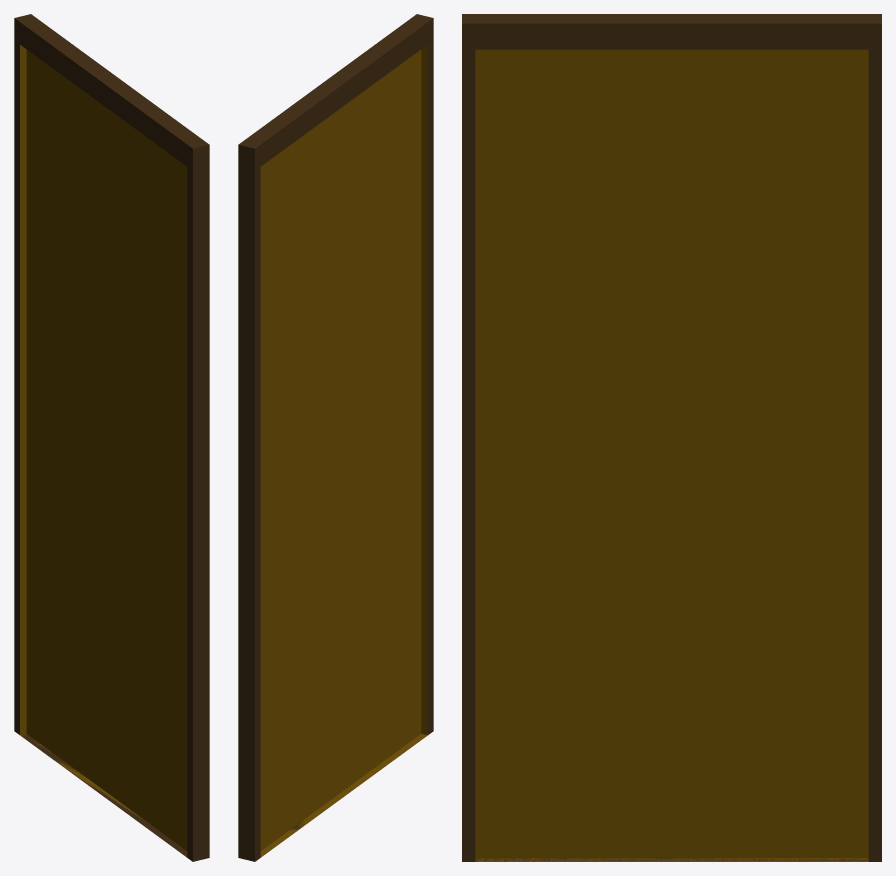
File: porte.glb
3 renders of one model, left to right at view 1: azimuth 30°, elevation 25°; view 2: azimuth 150°, elevation 25°; view 3: azimuth 270°, elevation 25°, orthographic. The views are drawn at different scales.
Parts seen in each view (by area): view 1: Porte; view 2: Porte; view 3: Porte.
Part boxes in pixels (box(x1,y1,x2,y2)): Porte: box(14, 14, 209, 861); Porte: box(238, 14, 433, 861); Porte: box(462, 14, 881, 861).
Bounding box in the file's own units: 0.05 × 2.05 × 0.93.
